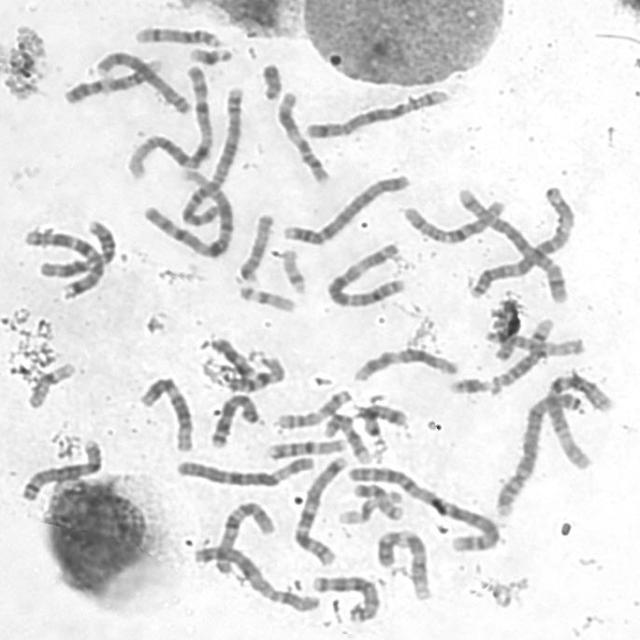A1: (122, 60, 216, 180), (140, 166, 238, 260)
A2: (344, 462, 504, 554), (177, 86, 242, 228)
A3: (467, 182, 574, 301), (322, 238, 408, 309)
B4: (492, 388, 590, 518), (279, 169, 413, 248)
B5: (456, 186, 570, 304), (301, 84, 452, 140)
C10: (399, 194, 508, 246), (209, 496, 277, 576)
C11: (272, 86, 333, 186), (37, 218, 117, 278)
C12: (136, 372, 197, 454), (349, 344, 461, 384)
C6: (540, 368, 618, 470), (173, 452, 319, 489)
C7: (289, 451, 352, 566), (18, 223, 108, 300)
C8: (90, 46, 194, 116), (17, 434, 106, 504)
C9: (61, 52, 166, 105), (372, 526, 435, 602)
D13: (308, 571, 383, 625), (206, 389, 263, 451)
D14: (486, 314, 556, 393), (131, 22, 225, 49)
D15: (486, 327, 588, 359), (234, 209, 276, 285)
E16: (222, 351, 288, 394), (264, 434, 351, 461)
E17: (272, 385, 356, 431), (322, 413, 372, 468)
E18: (493, 299, 521, 364), (359, 403, 410, 437)
F19: (23, 357, 78, 411), (335, 489, 403, 526)
F20: (349, 480, 406, 522), (209, 337, 256, 379)
G21: (186, 42, 235, 67), (445, 373, 498, 396)
G22: (235, 282, 298, 314), (278, 243, 310, 295)
X: (190, 541, 324, 616)
Y: (258, 60, 284, 102)
